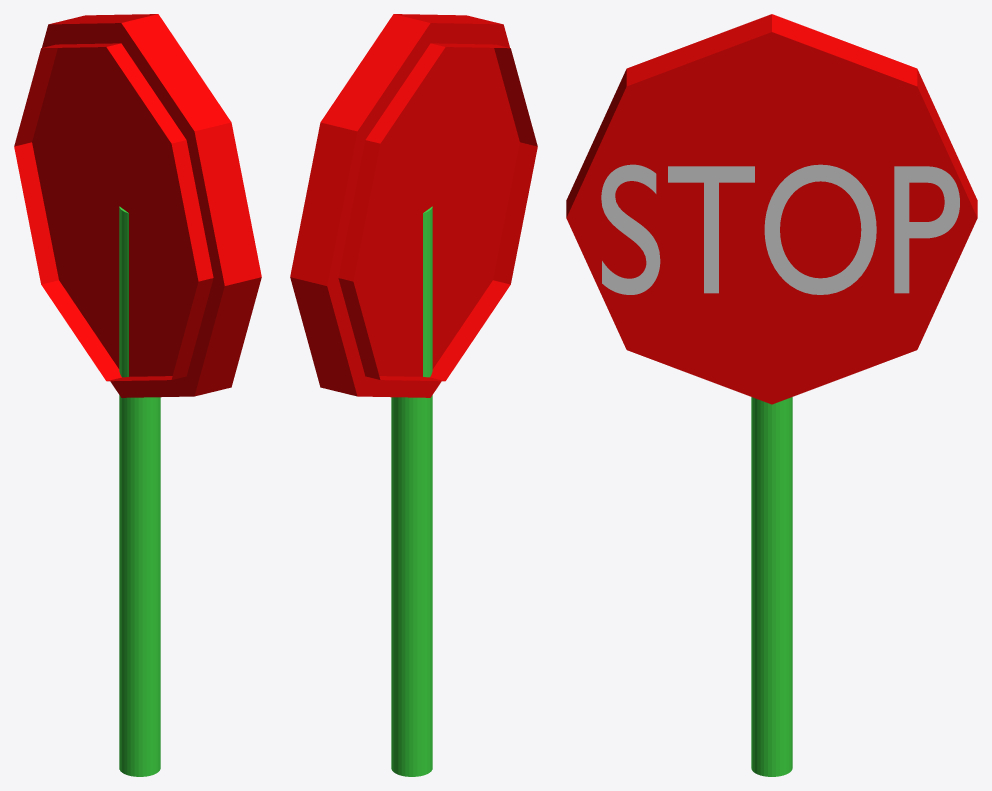
The model's file is StopSign.fbx.
The picture shows the model from 3 angles, left to right: view 1: azimuth 30°, elevation 25°; view 2: azimuth 150°, elevation 25°; view 3: azimuth 270°, elevation 25°; orthographic projection.
Parts seen in each view (by area): view 1: Cylinder; view 2: Cylinder; view 3: Cylinder, Text.
Boxes of the visible parts, left/top/right/bottom form: Cylinder: left=14, top=14, right=261, bottom=776; Cylinder: left=290, top=14, right=537, bottom=776; Cylinder: left=566, top=14, right=977, bottom=776; Text: left=601, top=164, right=959, bottom=294.
Bounding box in the file's own units: 2.98 × 40 × 20.
